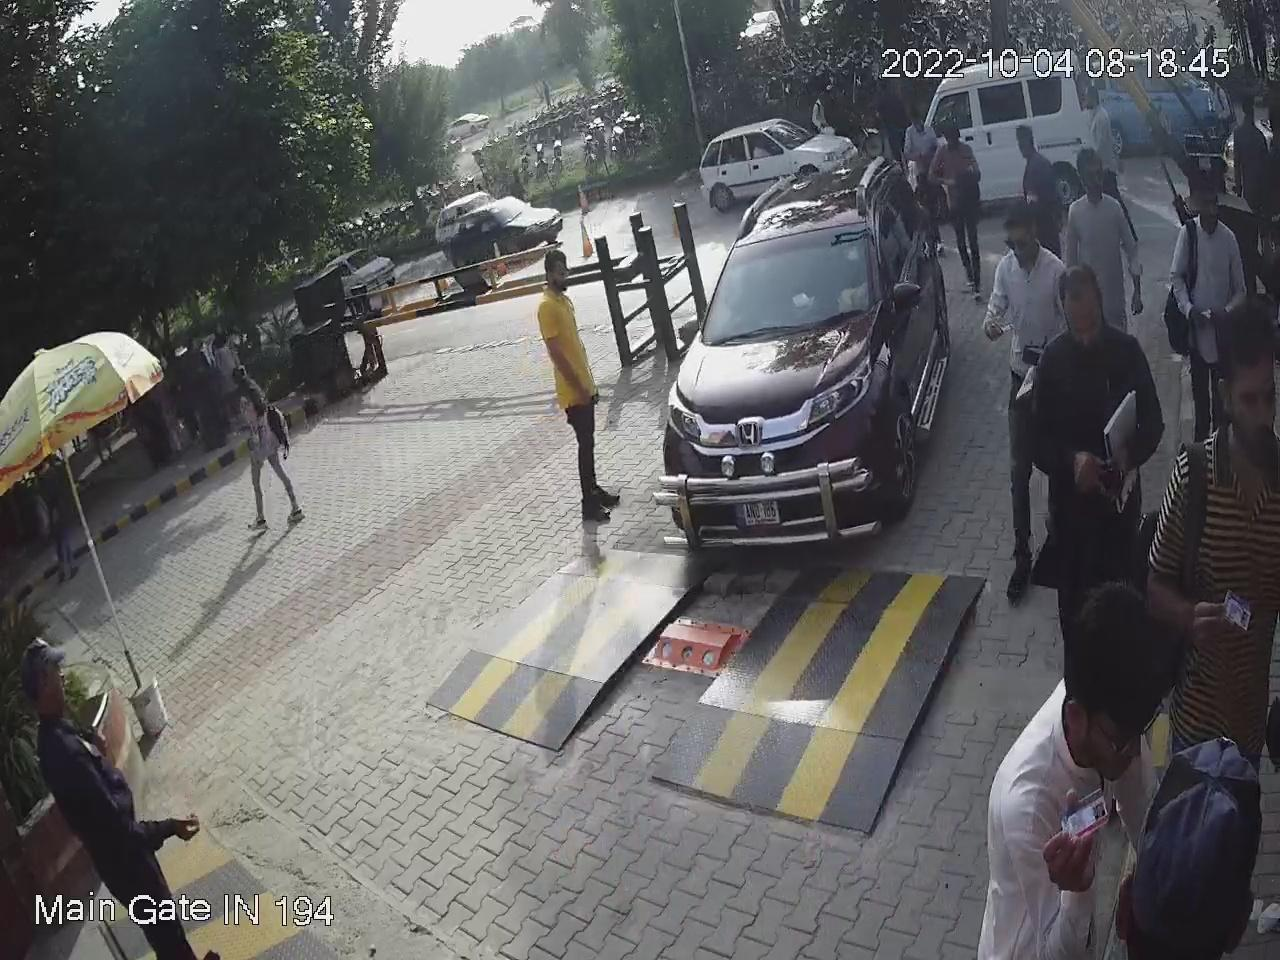windshield: (695, 223, 873, 338)
